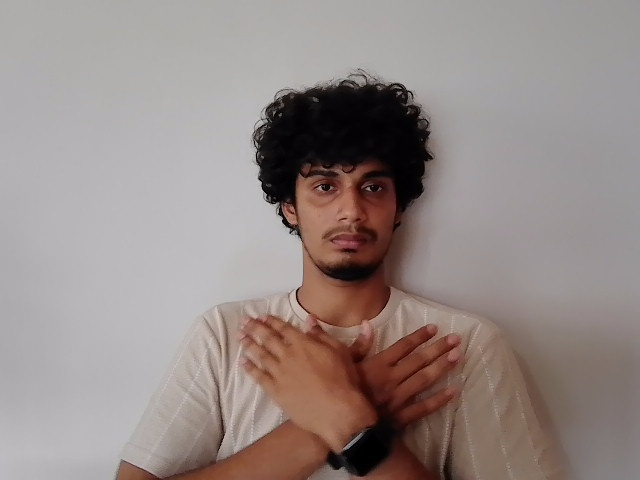relaxing: (234, 311, 467, 450)
